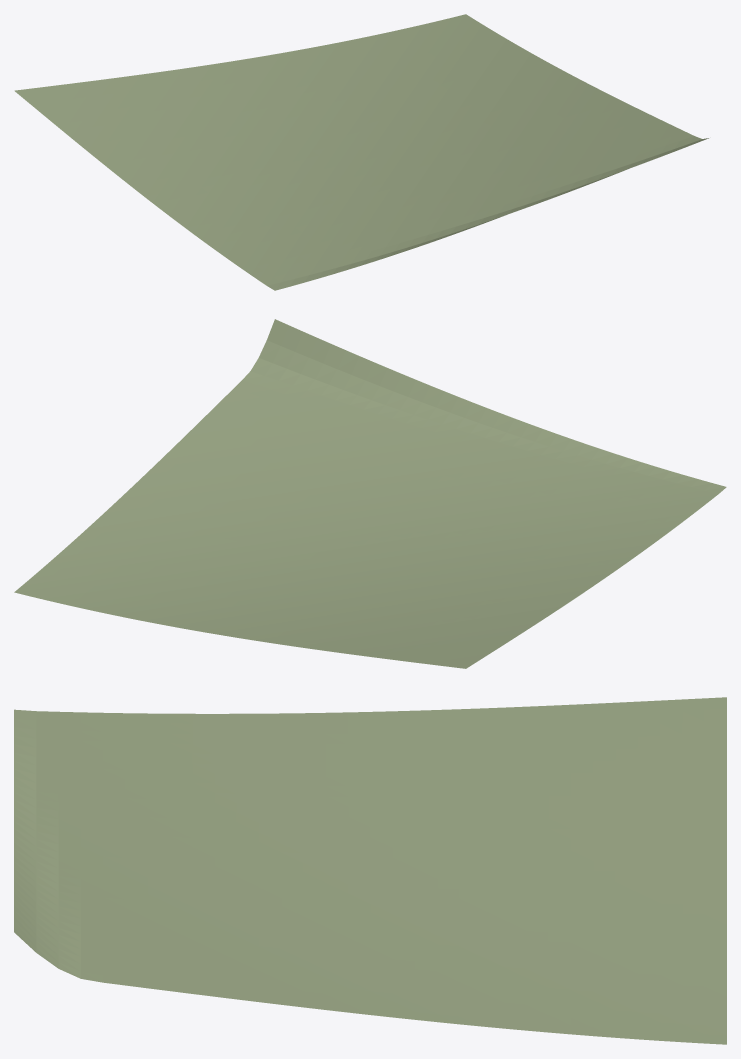
File: alpine-4-1.glb
3 views of the same model, one above another, from view 1: azimuth 30°, elevation 25°; view 2: azimuth 150°, elevation 25°; view 3: azimuth 270°, elevation 25° (orthographic). The views are drawn at different scales.
Visible parts, largest first — view 1: alpine-4-1; view 2: alpine-4-1; view 3: alpine-4-1.
Part boxes in pixels (bbox=[...]): alpine-4-1: bbox=[14, 14, 708, 290]; alpine-4-1: bbox=[14, 319, 726, 668]; alpine-4-1: bbox=[14, 697, 726, 1044].
Bounding box in the file's own units: 256 × 44.58 × 256.
